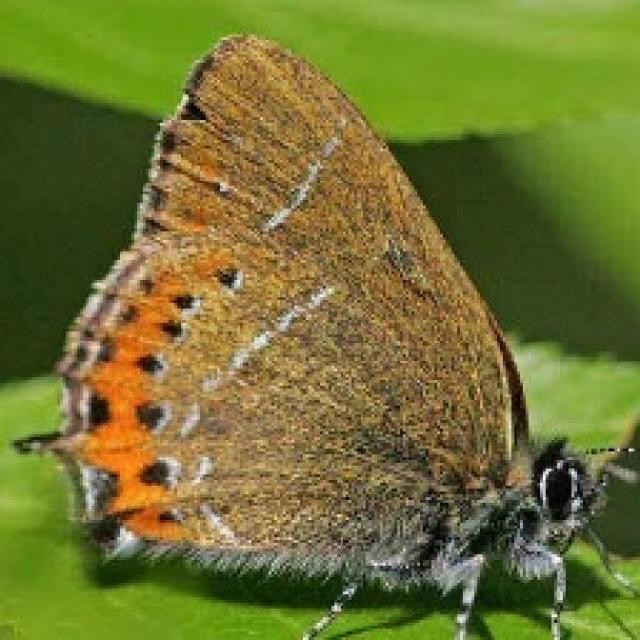butterfly: (9, 29, 637, 637)
